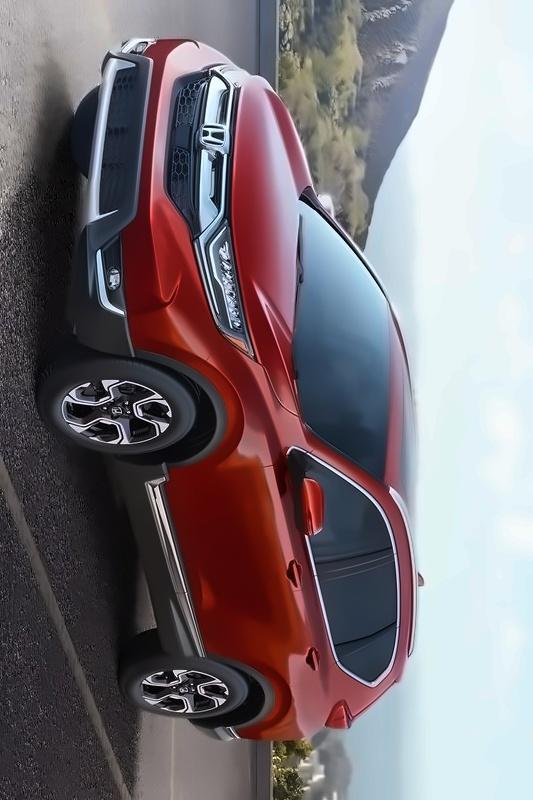Car hood: (230, 73, 316, 420)
Fender - -F-L-: (139, 339, 325, 469)
Fender - -R-L-: (96, 447, 207, 665), (257, 672, 370, 727)
Front bumper: (56, 27, 211, 378)
Headlight - -L-: (189, 209, 260, 364)
Passenger-s door - -F-L-: (142, 472, 420, 588)
Passenger-s door - -R-L-: (173, 581, 420, 678)
Rear bumper: (173, 703, 290, 753)
Rear light - -L-: (322, 694, 364, 734)
Side mirror - -L-: (284, 463, 334, 544)
Side mirror - -R-: (306, 173, 354, 230)
